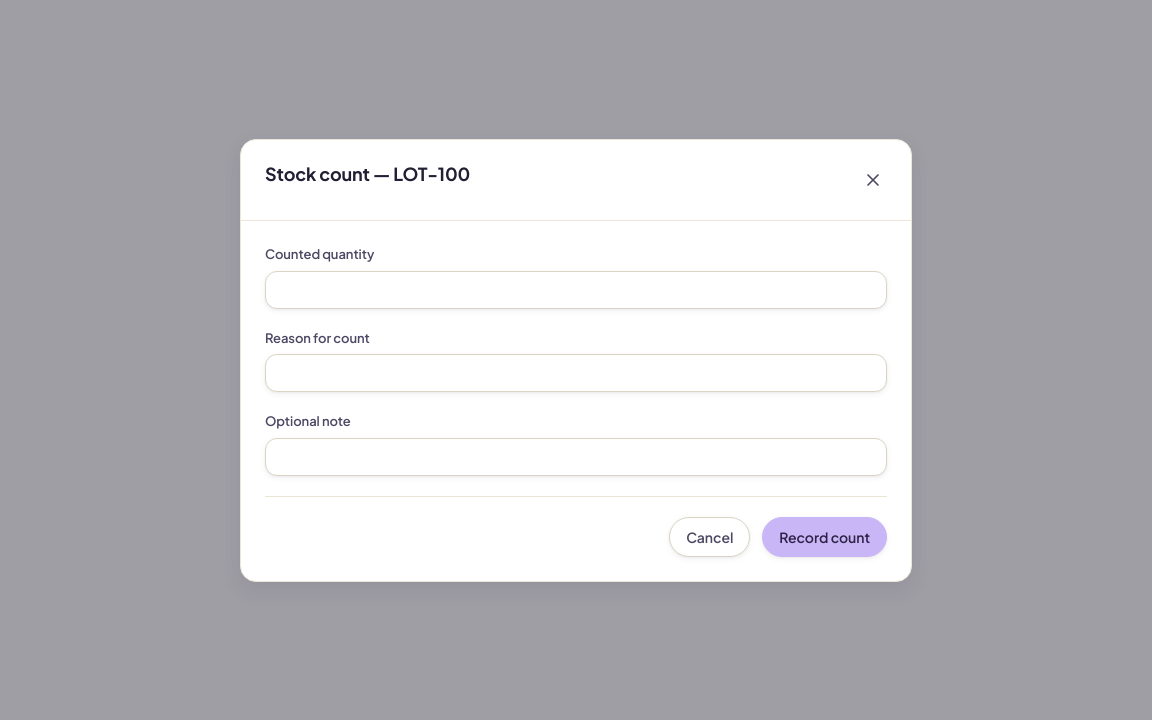
Scenario: CountBatchModal › shows no-change note and keeps modal open when count is unchanged
Type "18" into the number field labelled "Counted quantity".
click(576, 289); type("18")  # box [265, 270, 887, 308]
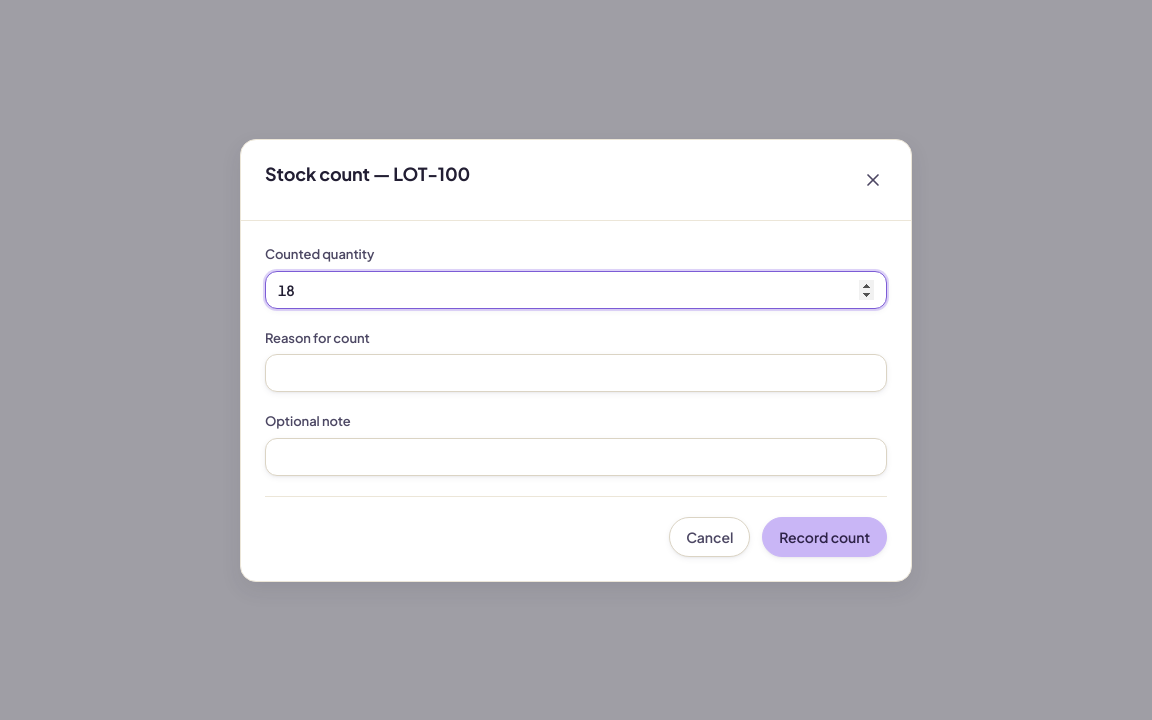
Click the button "Record count".
click(825, 536)  # box [762, 516, 887, 556]
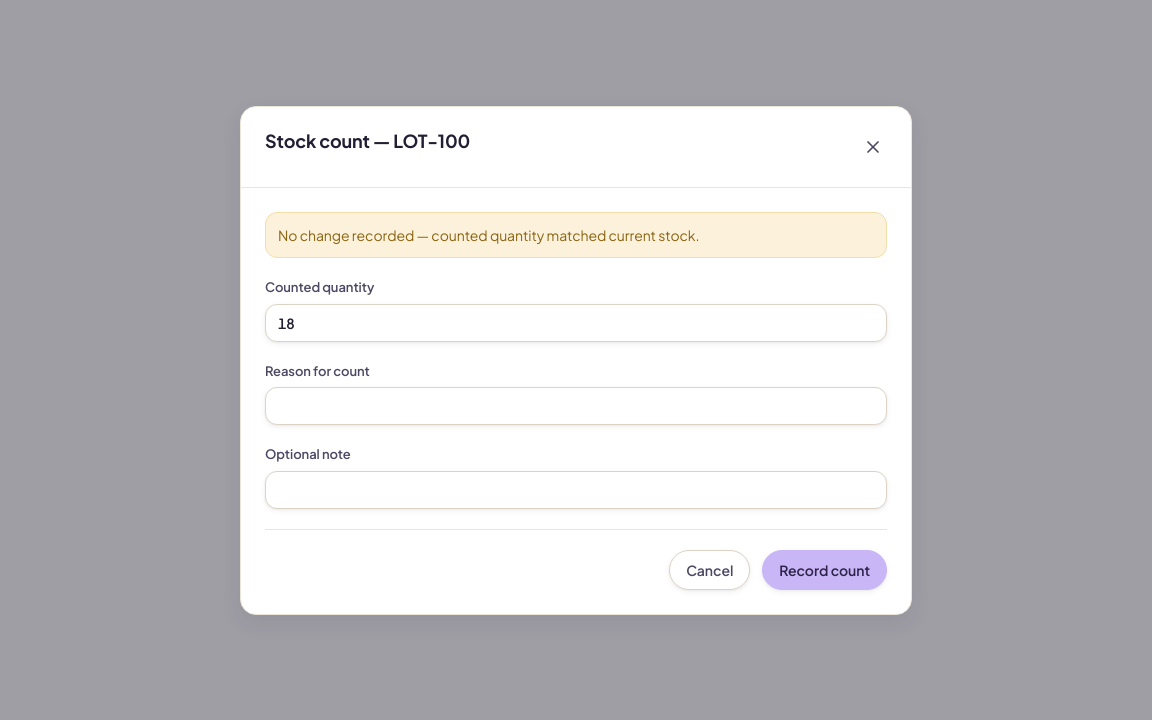
Expected: the dialog is shown, [240, 106, 912, 614]
Result: the text "No change recorded — counted quantity matched current stock." is shown at [265, 212, 887, 258]
